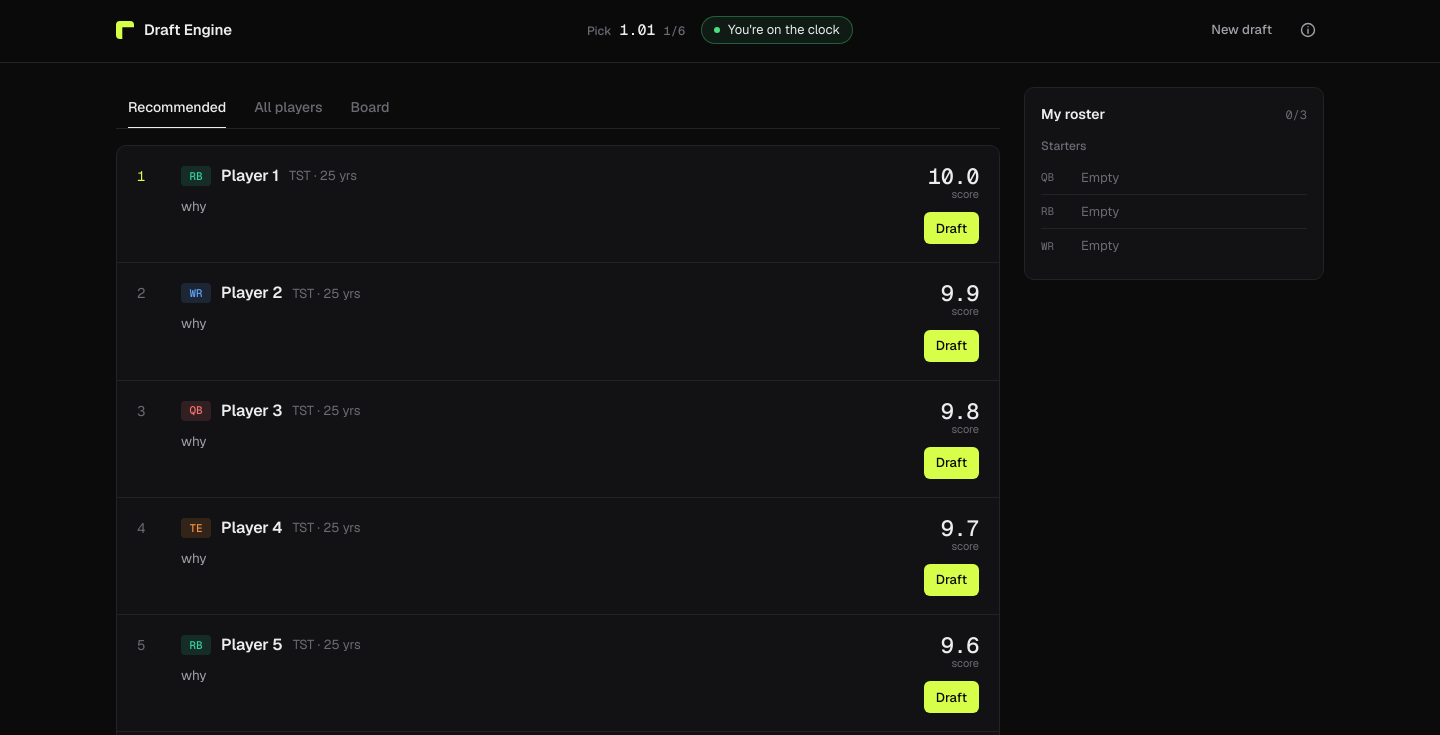
it: a draft in progress survives a reload
The width and height of the screenshot is (1440, 735).
Later steps or results of the test are not shown.
Click the button "Draft" below "10.0" at point(951, 228), box [924,212,979,244]
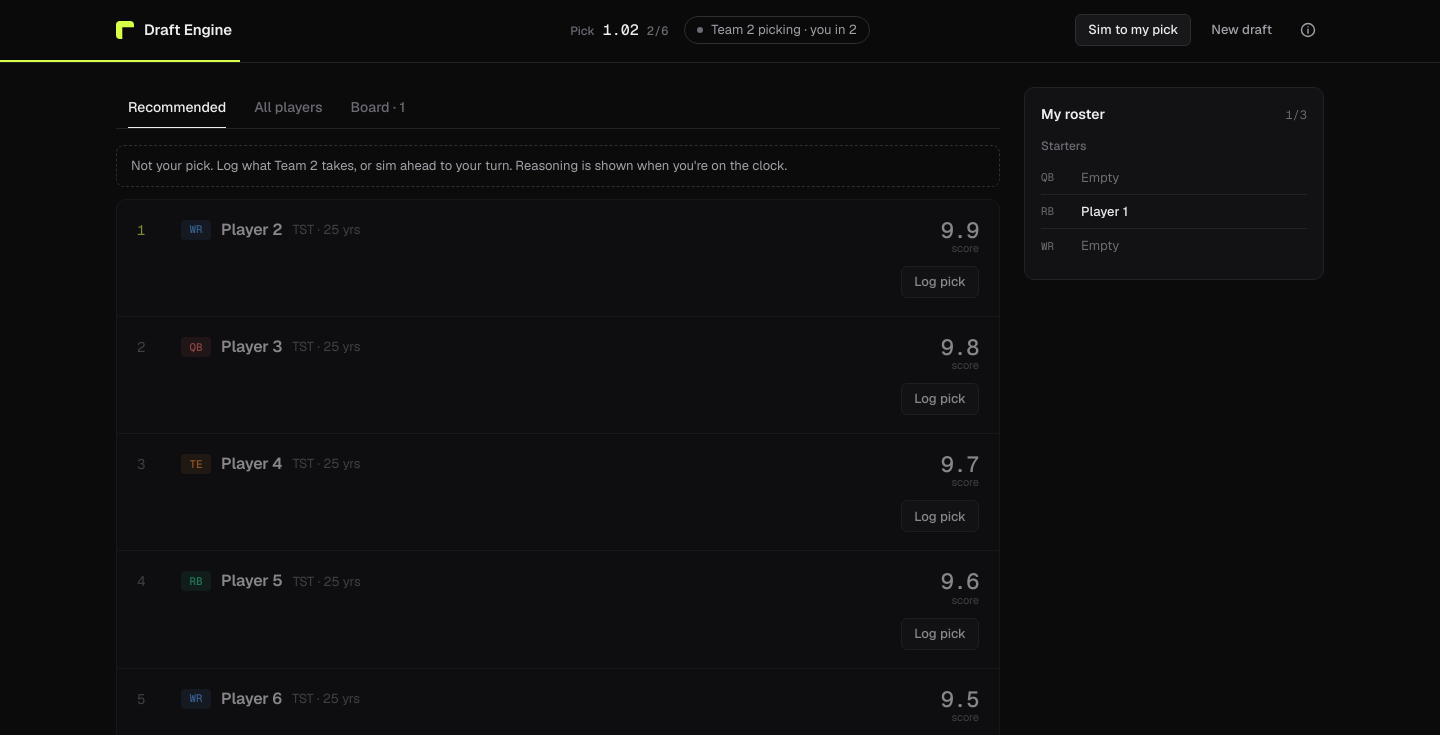
Now the text with class "clock-sub" reads "2/6", box [647,22,668,40]
